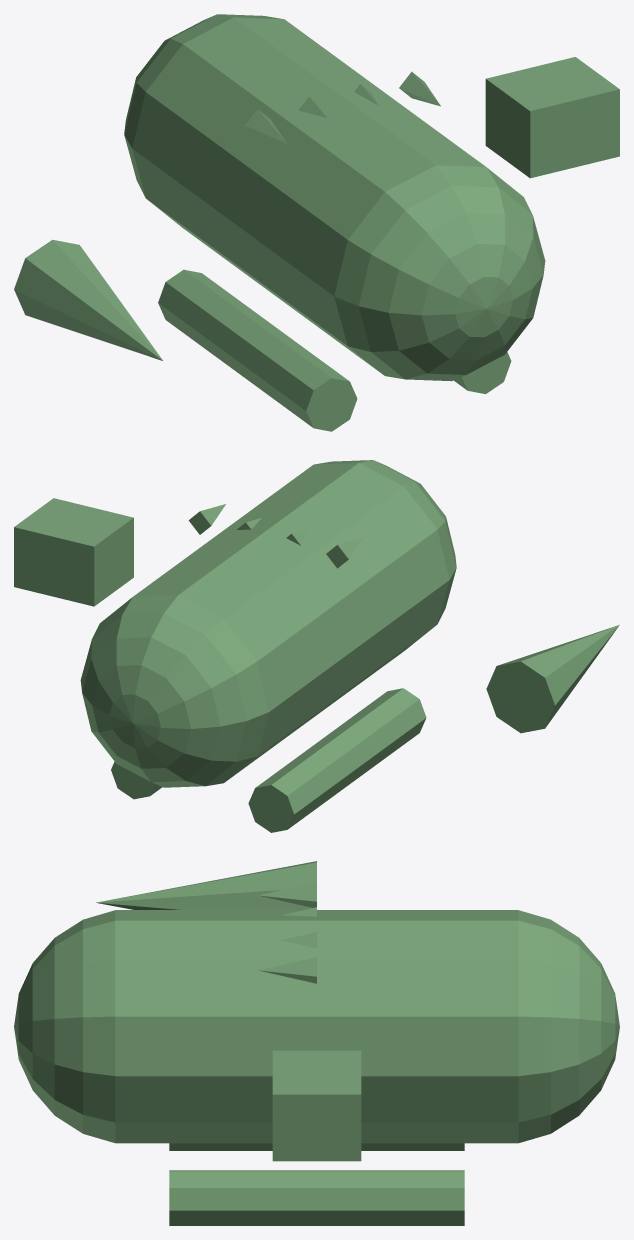
Rendered from ArgonianBehemoth_A_Red_Basic.glb.
The picture shows the model from 3 angles, top to bottom: view 1: azimuth 30°, elevation 25°; view 2: azimuth 150°, elevation 25°; view 3: azimuth 270°, elevation 25°; orthographic projection. The views are drawn at different scales.
Visible parts, largest first — view 1: world; view 2: world; view 3: world.
Boxes of the visible parts, box(x1,y1,x2,y2) form: world: box(14, 14, 619, 431); world: box(14, 460, 619, 832); world: box(14, 861, 619, 1225).
Size of the model in its own units: 4.55 by 2 by 4.1.
